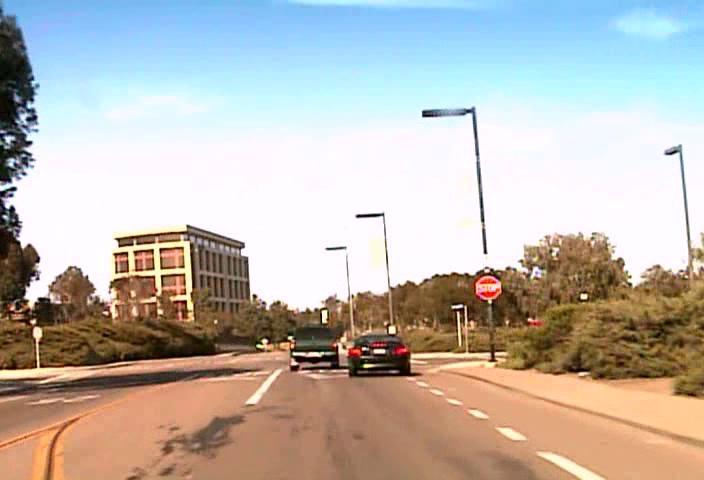stop: (475, 274, 502, 300)
